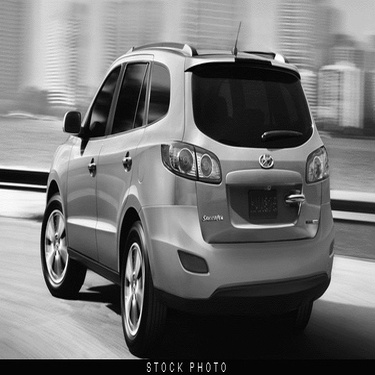car: (28, 35, 338, 358)
